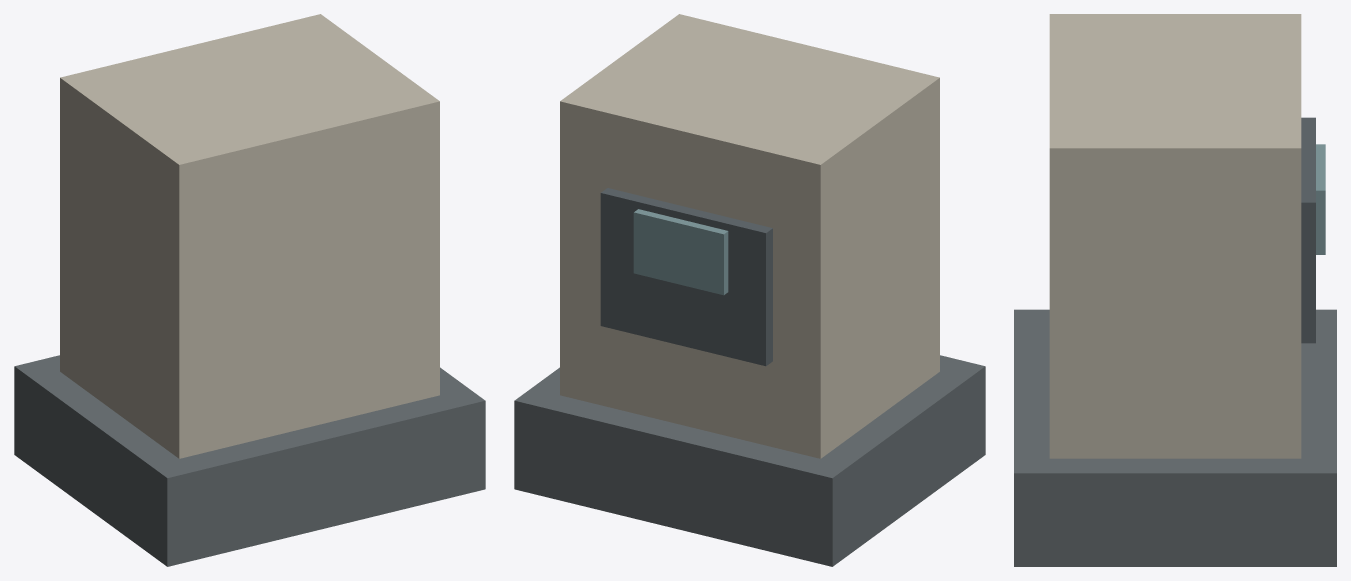
The model's file is iz3_production_forge_01.glb.
3 views of the same model, side by side, from view 1: azimuth 30°, elevation 25°; view 2: azimuth 150°, elevation 25°; view 3: azimuth 270°, elevation 25° (orthographic). The views are drawn at different scales.
Visible parts, largest first — view 1: cabinet, base; view 2: cabinet, base, panel, display; view 3: cabinet, base, panel, display.
Part boxes in pixels (bbox=[...]): cabinet: bbox=[60, 14, 439, 458]; base: bbox=[14, 355, 485, 566]; cabinet: bbox=[560, 14, 939, 458]; base: bbox=[514, 355, 985, 566]; panel: bbox=[600, 188, 772, 366]; display: bbox=[633, 209, 728, 295]; cabinet: bbox=[1049, 14, 1301, 458]; base: bbox=[1014, 309, 1336, 566]; panel: bbox=[1301, 117, 1315, 343]; display: bbox=[1316, 144, 1325, 254].
Size of the model in its own units: 1.2 by 1.38 by 1.
